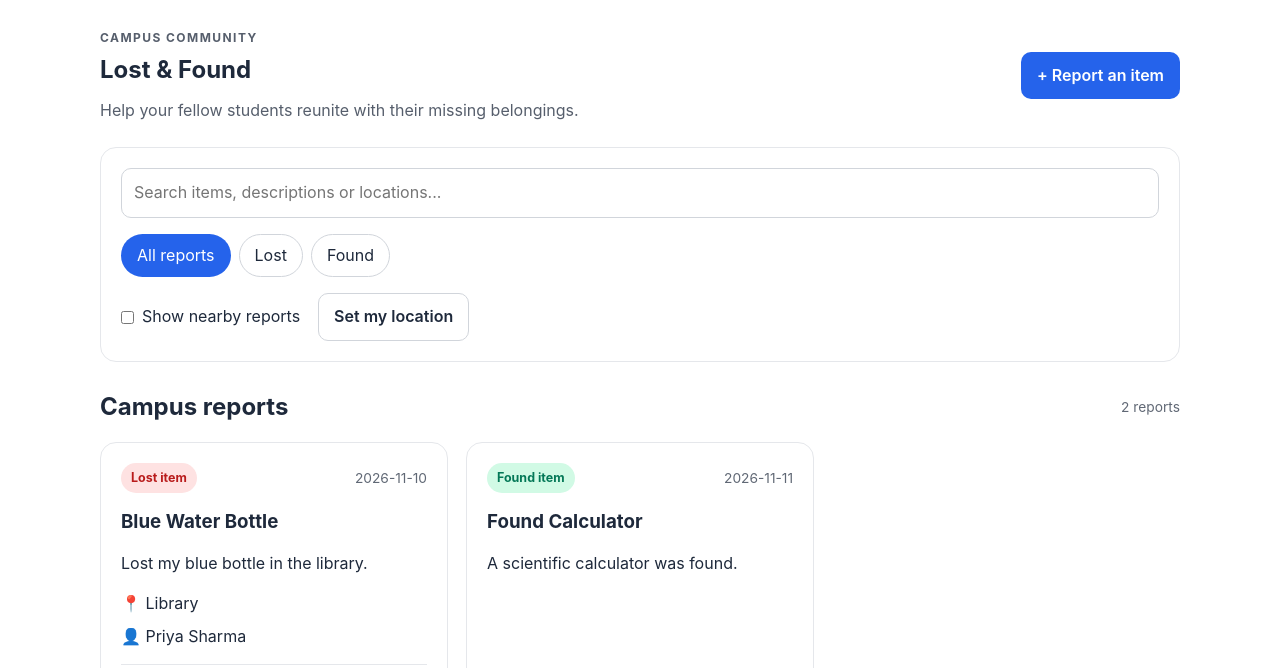
Scenario: LostFound Page › shows an empty state when no reports match
In the search field named "Search Lost and Found reports": (640, 193) [121,168,1159,218], type "nonexistent item"
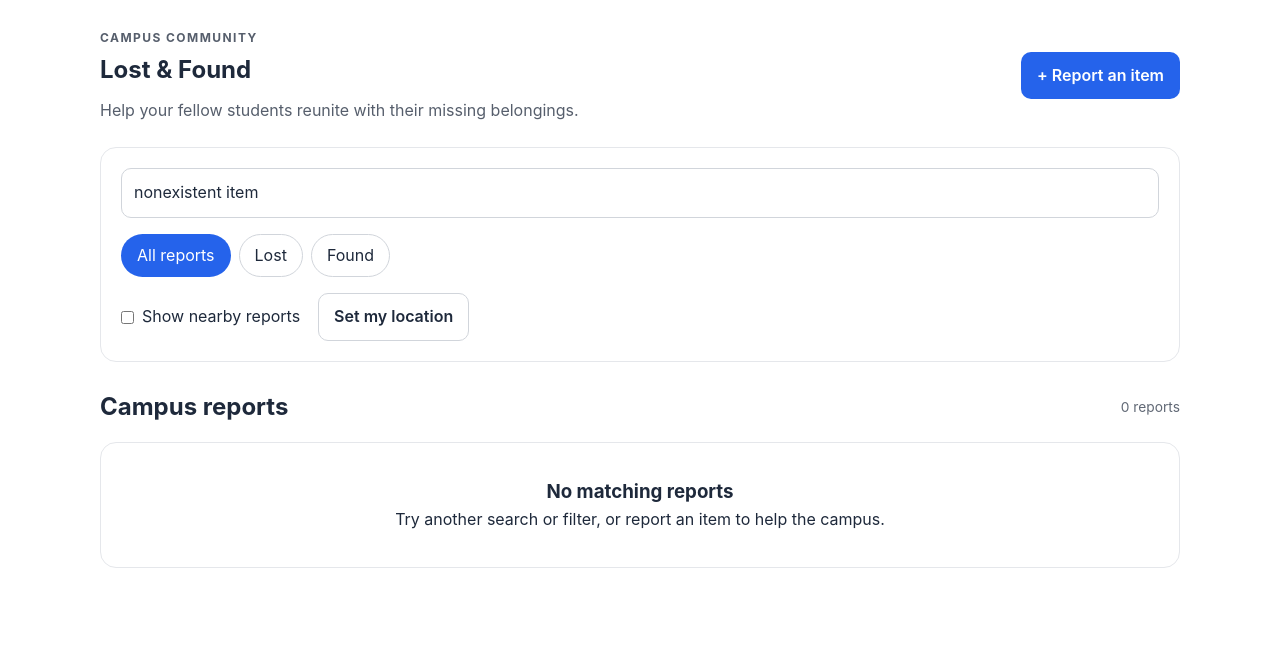
Result: the heading "No matching reports" is shown at [546,480,734,503]
